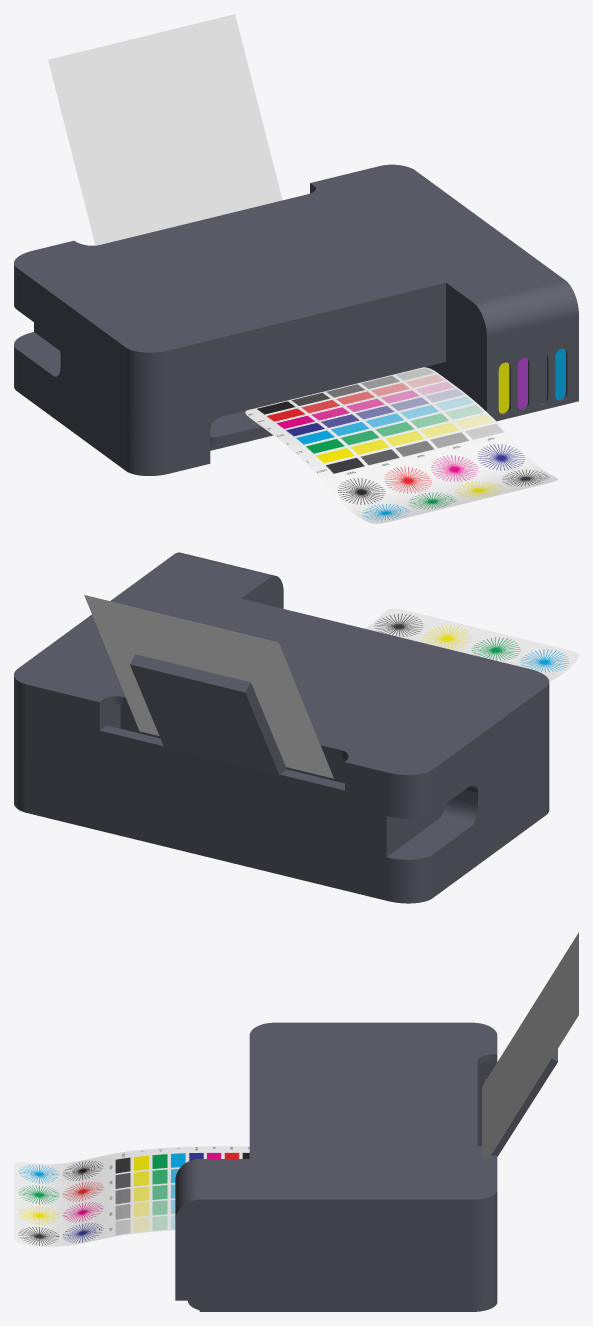
The model's file is printer.fbx.
The picture shows the model from 3 angles, top to bottom: view 1: azimuth 30°, elevation 25°; view 2: azimuth 150°, elevation 25°; view 3: azimuth 270°, elevation 25°; orthographic projection. The views are drawn at different scales.
Parts seen in each view (by area): view 1: printer_0, Plane, Plane.001; view 2: printer_0, Plane, Plane.001; view 3: printer_0, Plane.001, Plane.
Part boxes in pixels (x1,y1,x2,y2): printer_0: (14, 164, 578, 475); Plane: (48, 14, 282, 245); Plane.001: (245, 367, 557, 523); printer_0: (14, 552, 549, 903); Plane: (84, 595, 333, 778); Plane.001: (365, 608, 578, 681); printer_0: (175, 1022, 557, 1311); Plane.001: (14, 1146, 249, 1246); Plane: (482, 932, 578, 1158).
Size of the model in its own units: 426 by 273 by 575.
